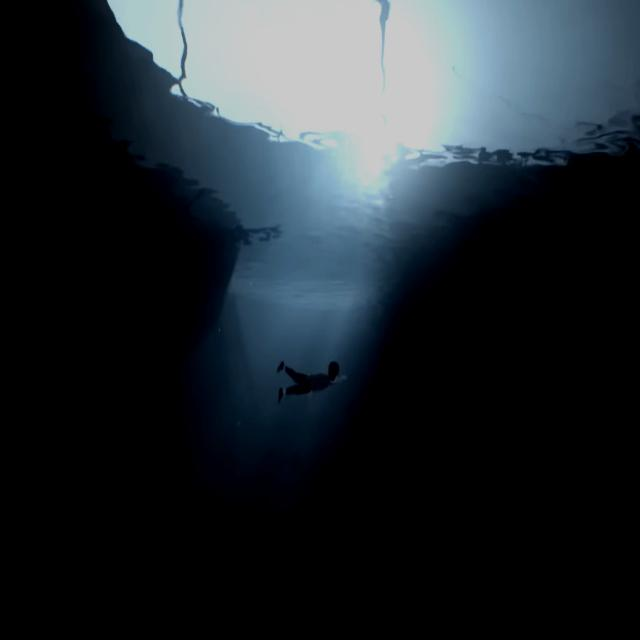boy: (278, 364, 342, 413)
